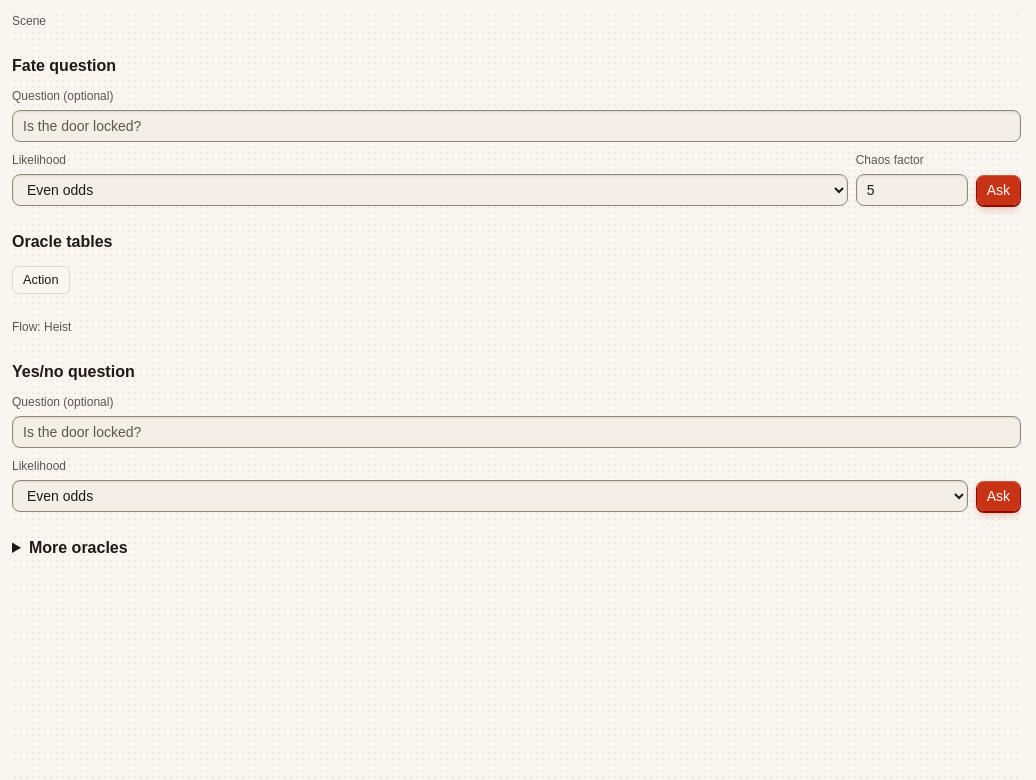
Test: OraclePanel › ordered by Scene Type and Flow › collapses every other oracle under "More oracles" until it is opened
Click the heading "More oracles" at {"x": 78, "y": 548}, box 29,539 -> 128,556
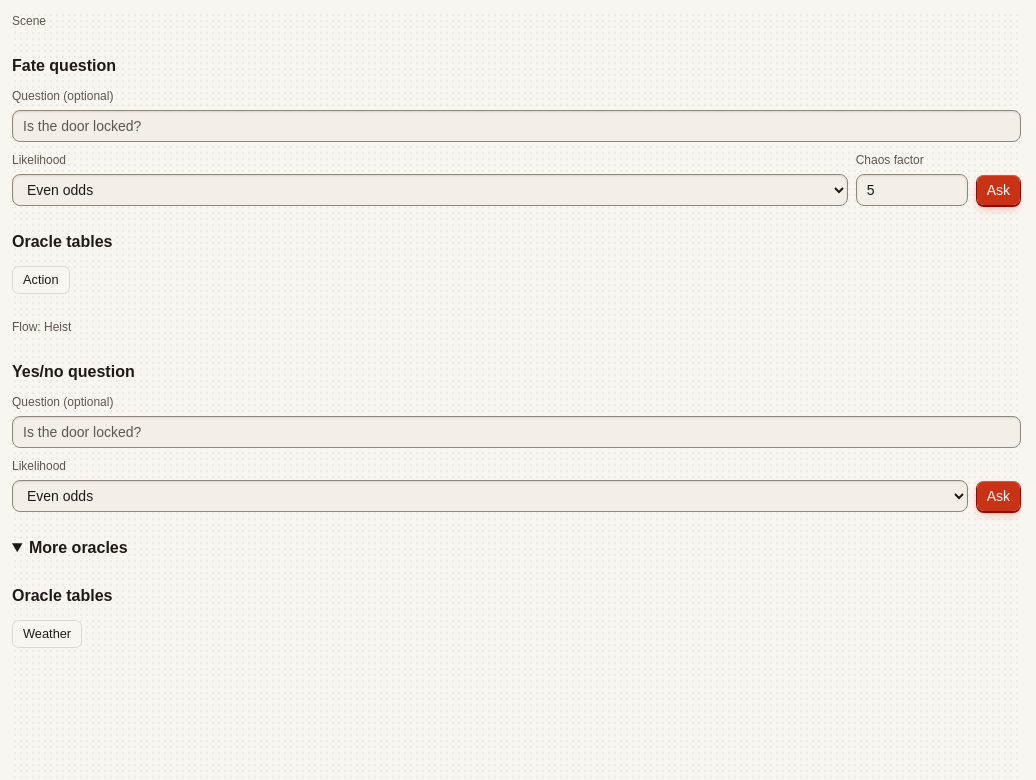
Result: the button with aria-label "Roll on Weather" is shown at 12,620 -> 82,648
